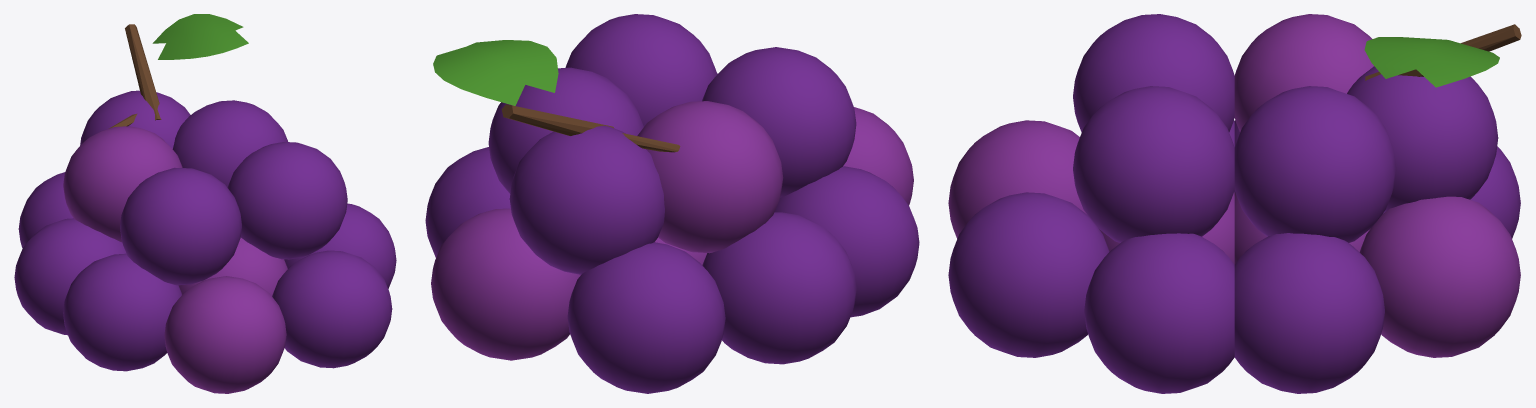
File: grapes.fbx
The picture shows the model from 3 angles, left to right: view 1: azimuth 30°, elevation 25°; view 2: azimuth 150°, elevation 25°; view 3: azimuth 270°, elevation 25°; orthographic projection. The views are drawn at different scales.
Parts seen in each view (by area): view 1: grapes; view 2: grapes; view 3: grapes.
Boxes of the visible parts, box(x1,y1,x2,y2) form: grapes: box(14, 14, 396, 393); grapes: box(425, 14, 919, 393); grapes: box(948, 14, 1521, 393).
Size of the model in its own units: 52 by 35 by 58.
